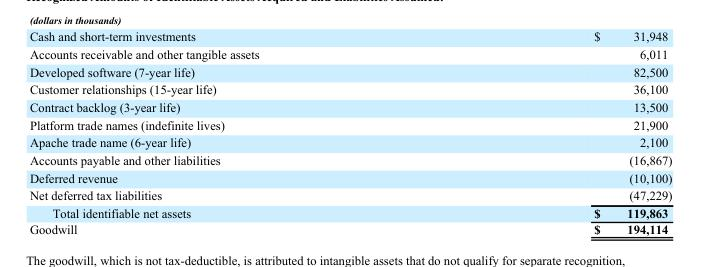table: (28, 28, 671, 236)
table column: (28, 28, 425, 236), (425, 28, 671, 236)
table row: (28, 44, 671, 62), (28, 62, 671, 80), (28, 97, 671, 115), (28, 115, 671, 133), (28, 150, 671, 168), (28, 168, 671, 186), (28, 80, 671, 97), (28, 133, 671, 150), (28, 186, 671, 203), (28, 203, 671, 220), (28, 28, 671, 44), (28, 220, 671, 236)
